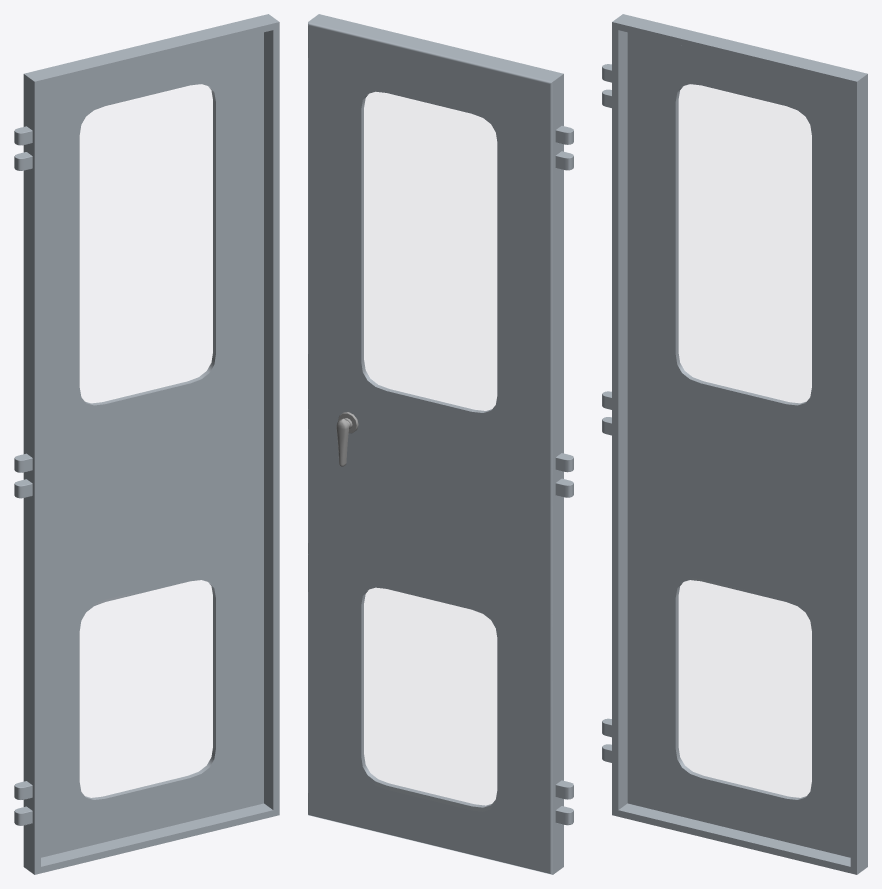
Rendered from TR_back_DOOR2.fbx.
3 renders of one model, left to right at view 1: azimuth 30°, elevation 25°; view 2: azimuth 150°, elevation 25°; view 3: azimuth 330°, elevation 25°, orthographic.
Visible parts, largest first — view 1: tr_LBS_door_B_L001; view 2: tr_LBS_door_B_L001; view 3: tr_LBS_door_B_L001.
Part boxes in pixels (left/top/right/bottom): tr_LBS_door_B_L001: left=14, top=14, right=279, bottom=874; tr_LBS_door_B_L001: left=308, top=14, right=573, bottom=874; tr_LBS_door_B_L001: left=602, top=14, right=867, bottom=874.
Bounding box in the file's own units: 0.6334 × 1.85 × 0.0875.
2 materials, 1 textured.
